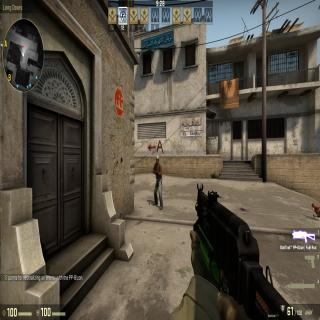T-Body: (152, 155, 164, 209)
T-Head: (154, 156, 160, 164)
